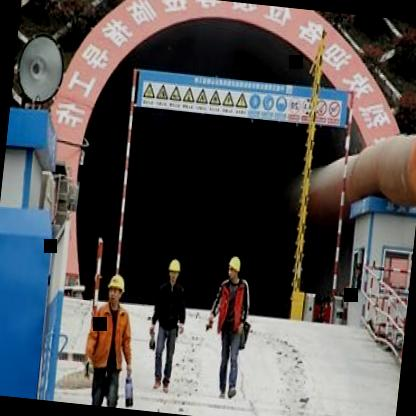helmet: (104, 270, 128, 310), (160, 256, 184, 286), (224, 252, 245, 284)
